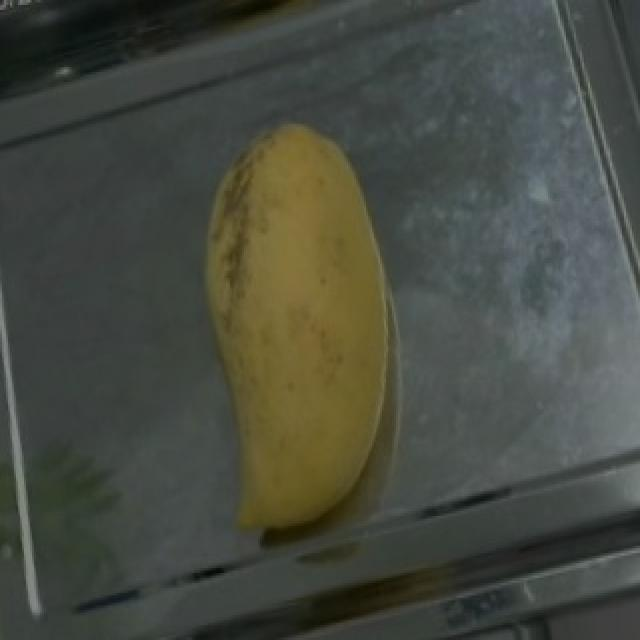fruit: (166, 87, 480, 518)
